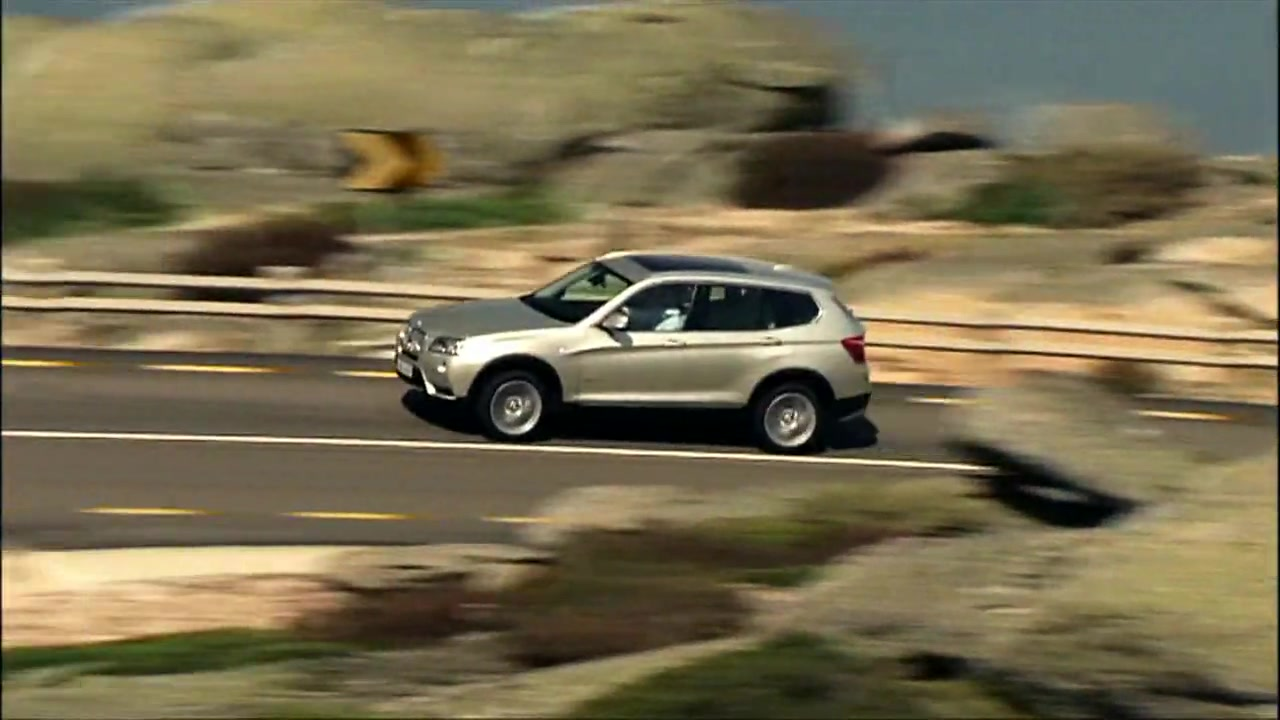car: (384, 248, 876, 454)
